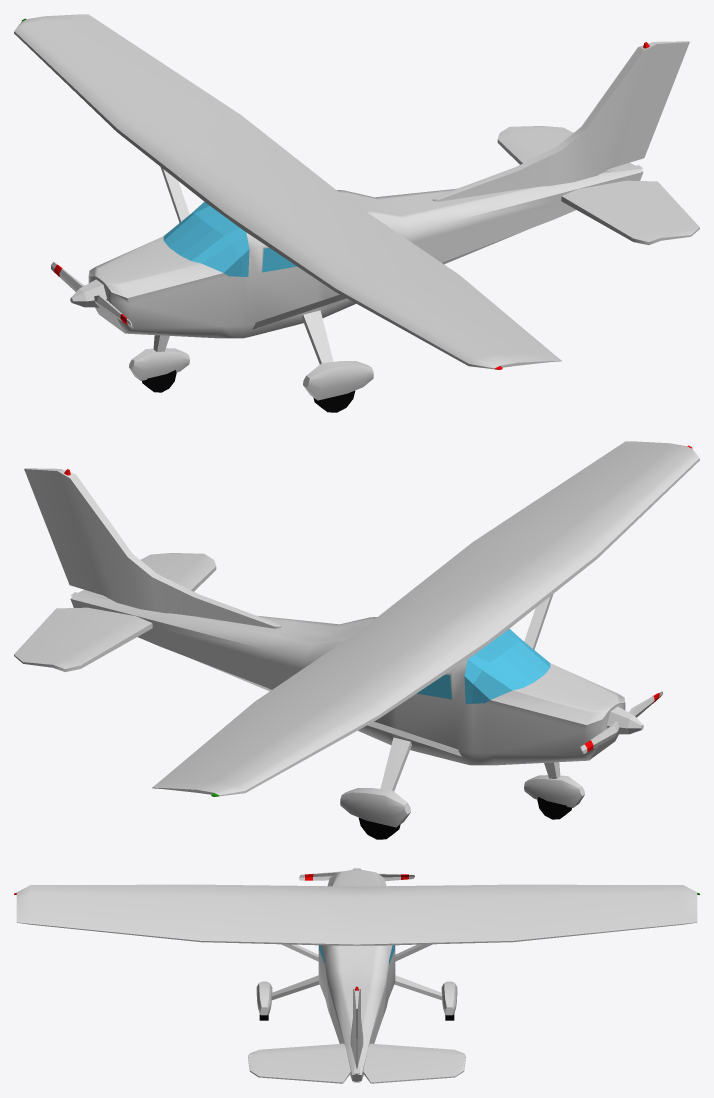
The picture shows the model from 3 angles, top to bottom: view 1: azimuth 30°, elevation 25°; view 2: azimuth 150°, elevation 25°; view 3: azimuth 270°, elevation 25°; orthographic projection. The views are drawn at different scales.
Parts seen in each view (by area): view 1: Body, Propeller; view 2: Body, Propeller; view 3: Body, Propeller.
Boxes of the visible parts, x1,y1,x2,y2 form: Body: (14, 14, 699, 412); Propeller: (51, 262, 133, 328); Body: (14, 441, 699, 839); Propeller: (580, 691, 662, 754); Body: (14, 870, 699, 1083); Propeller: (299, 868, 414, 881).
Size of what is drawn, in the model's own units: 4.16 by 1.47 by 5.57.
